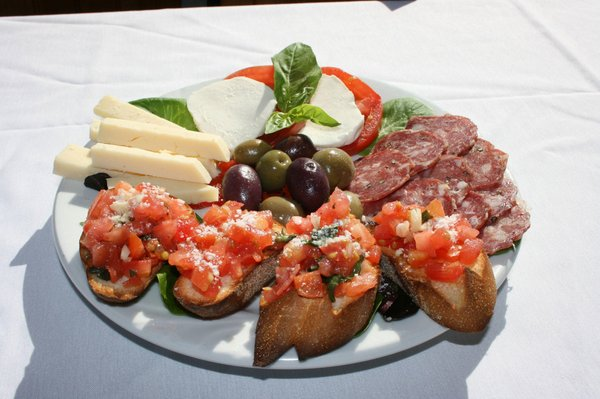curry: (10, 2, 599, 389)
